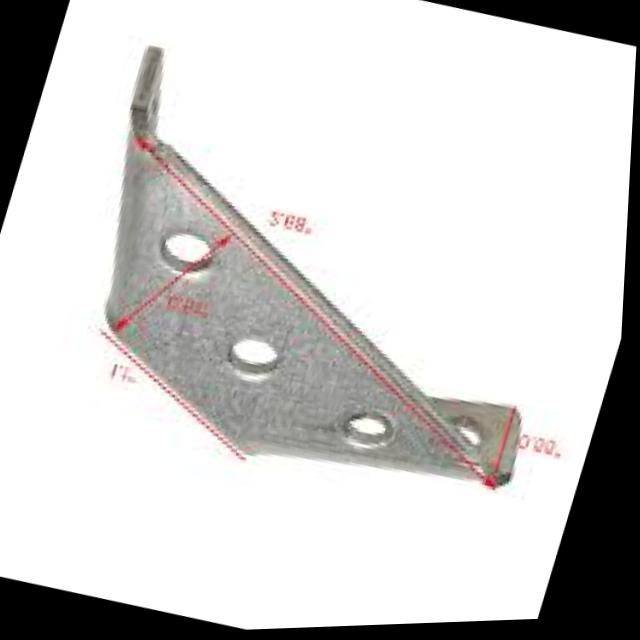holes: (155, 228, 221, 282), (224, 335, 287, 382), (342, 411, 399, 457)
